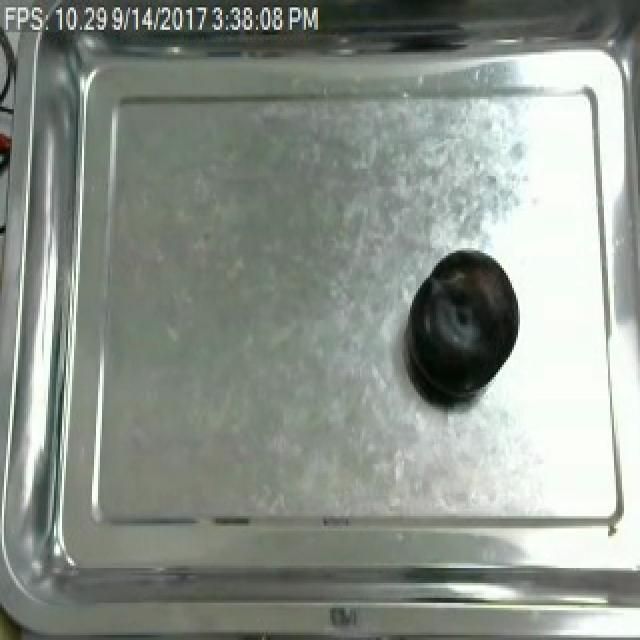Fruit: (402, 246, 524, 407)
